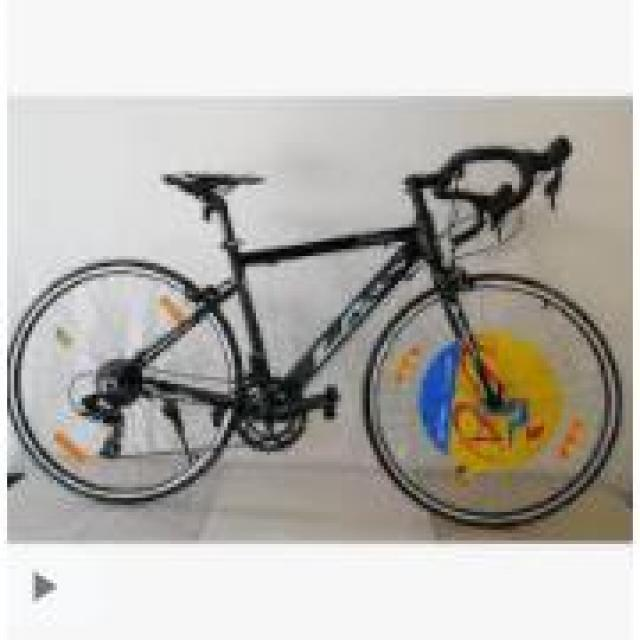bicycle: (16, 143, 599, 538)
